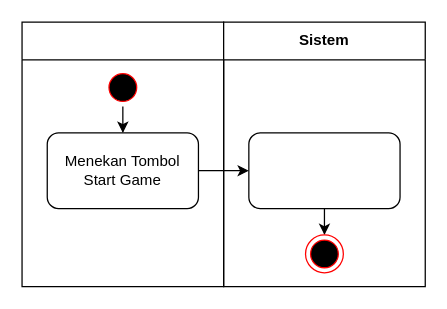
The diagram is 447 pixels wide and 309 high, and some of its shapes have lost their labels. The box of each missing label's shape, as (x1, y1, x2, y2) in pixels:
Admin / Mahasiswa: (21, 21, 224, 287)
Menampilkan Scene Gameplay: (248, 132, 400, 209)
